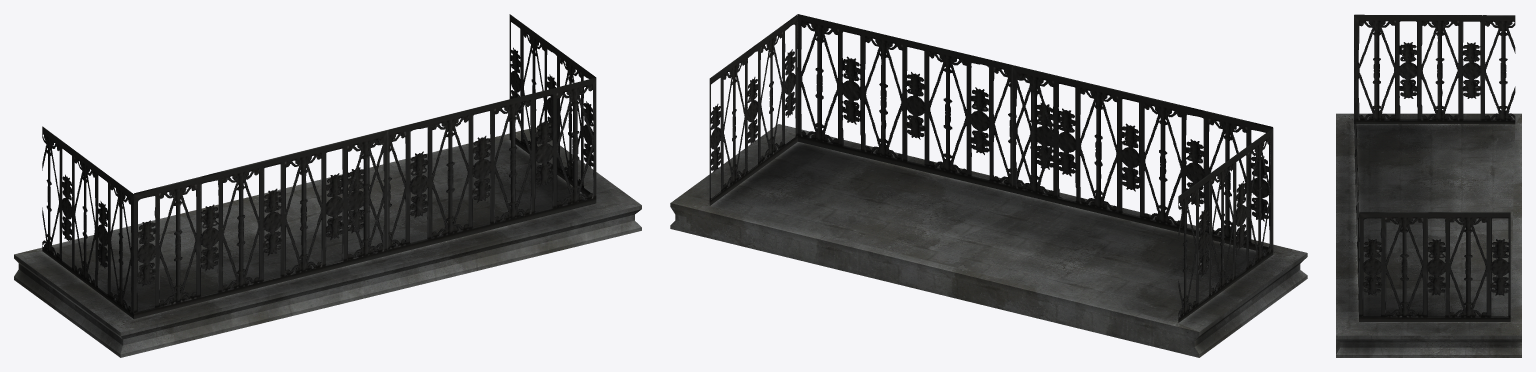
The model's file is Balcony.fbx.
3 views of the same model, side by side, from view 1: azimuth 30°, elevation 25°; view 2: azimuth 150°, elevation 25°; view 3: azimuth 270°, elevation 25° (orthographic). The views are drawn at different scales.
Parts seen in each view (by area): view 1: Cube; view 2: Cube; view 3: Cube.
Part boxes in pixels (x1,y1,x2,y2): Cube: [14, 14, 641, 357]; Cube: [670, 14, 1307, 357]; Cube: [1336, 14, 1521, 357].
Size of the model in its own units: 3.8 by 1.05 by 1.35.
